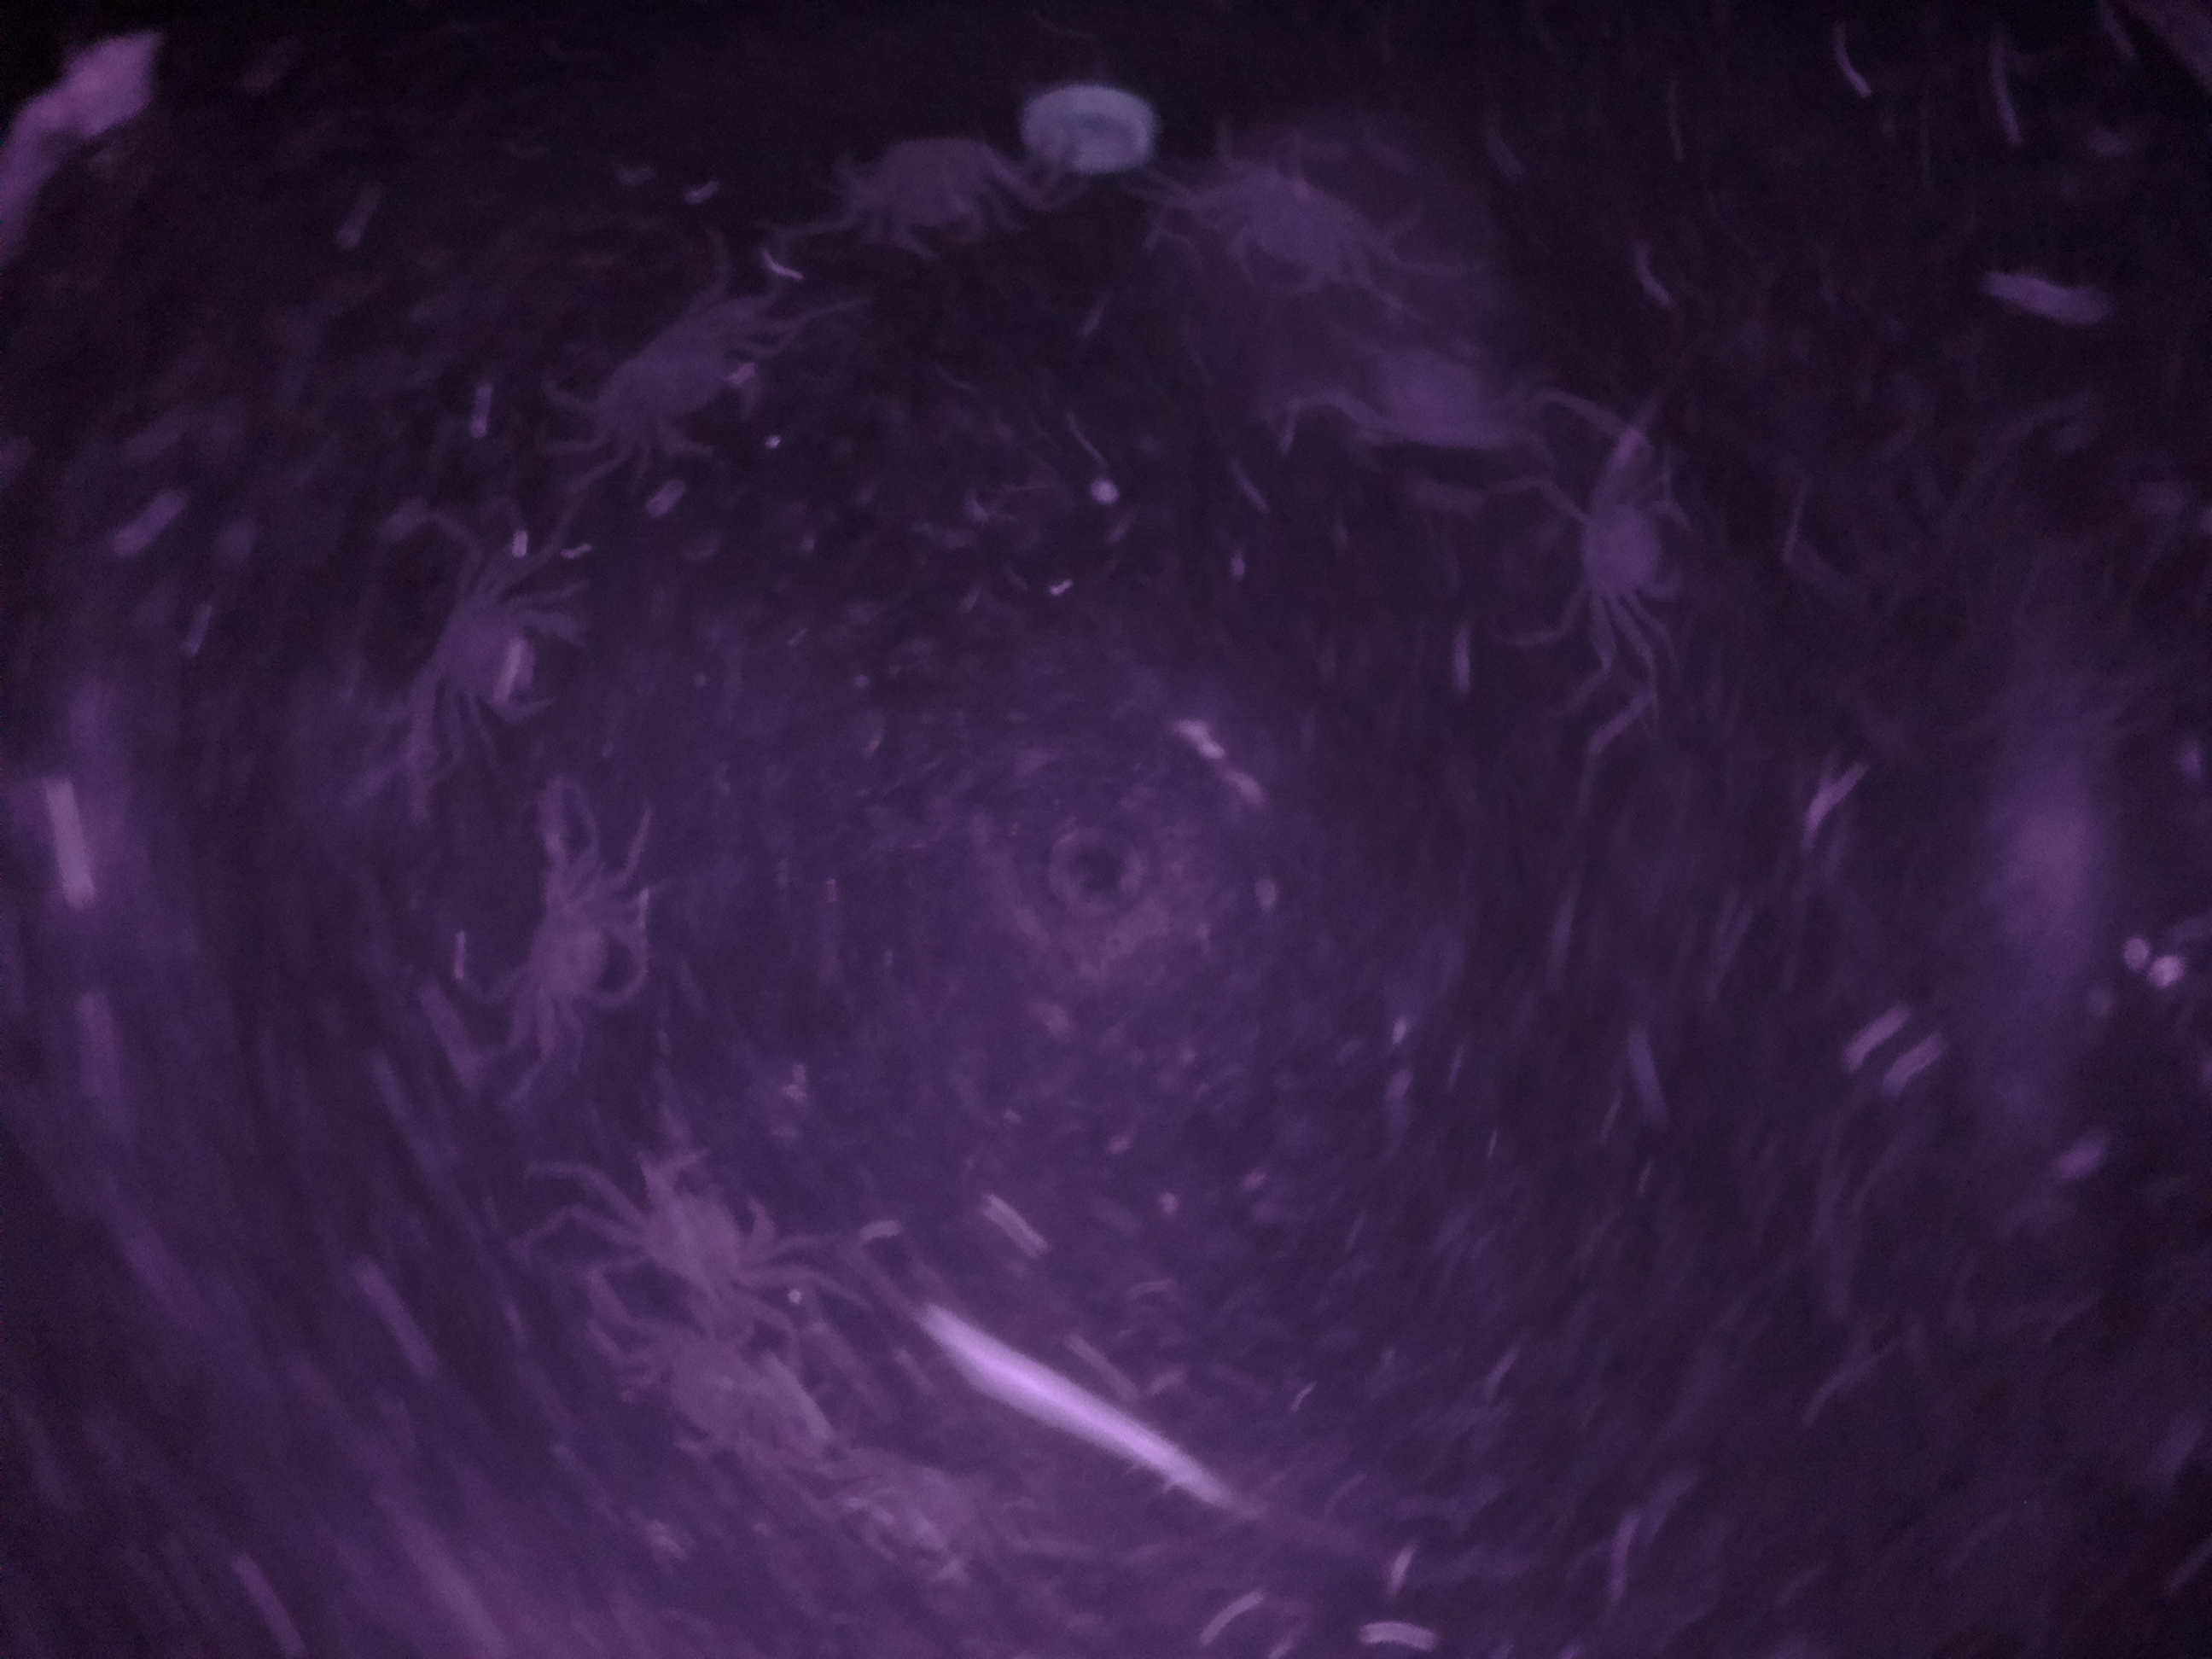Crab: (390, 532, 571, 753), (1554, 457, 1710, 643), (859, 115, 1026, 268)
